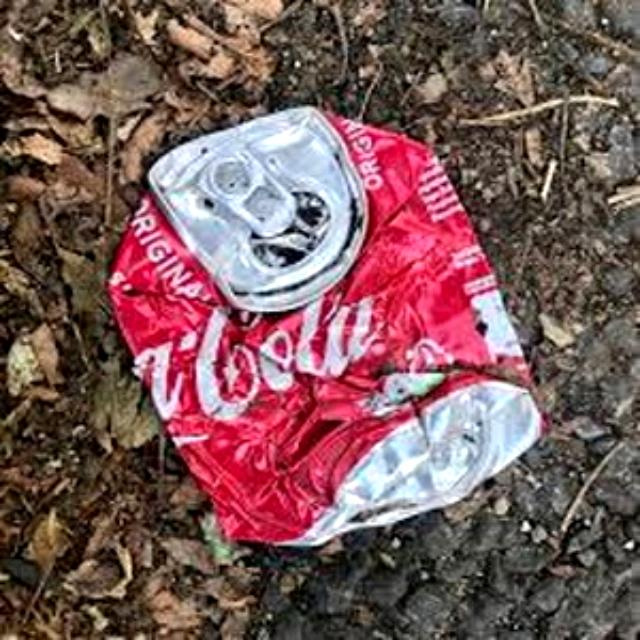Metal: (99, 100, 549, 558)
